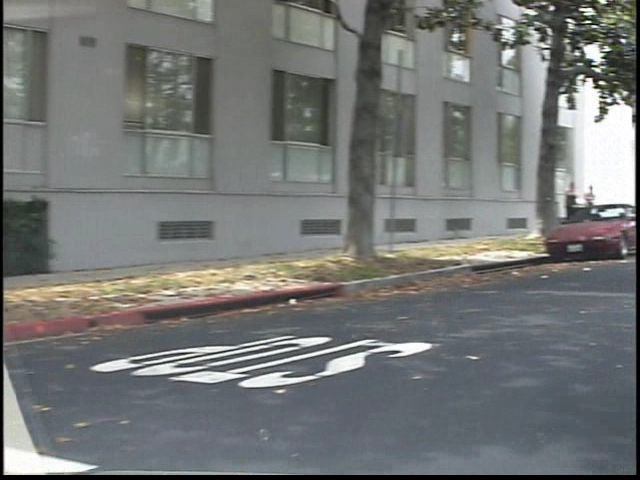person: (575, 177, 597, 237), (592, 182, 614, 234)
